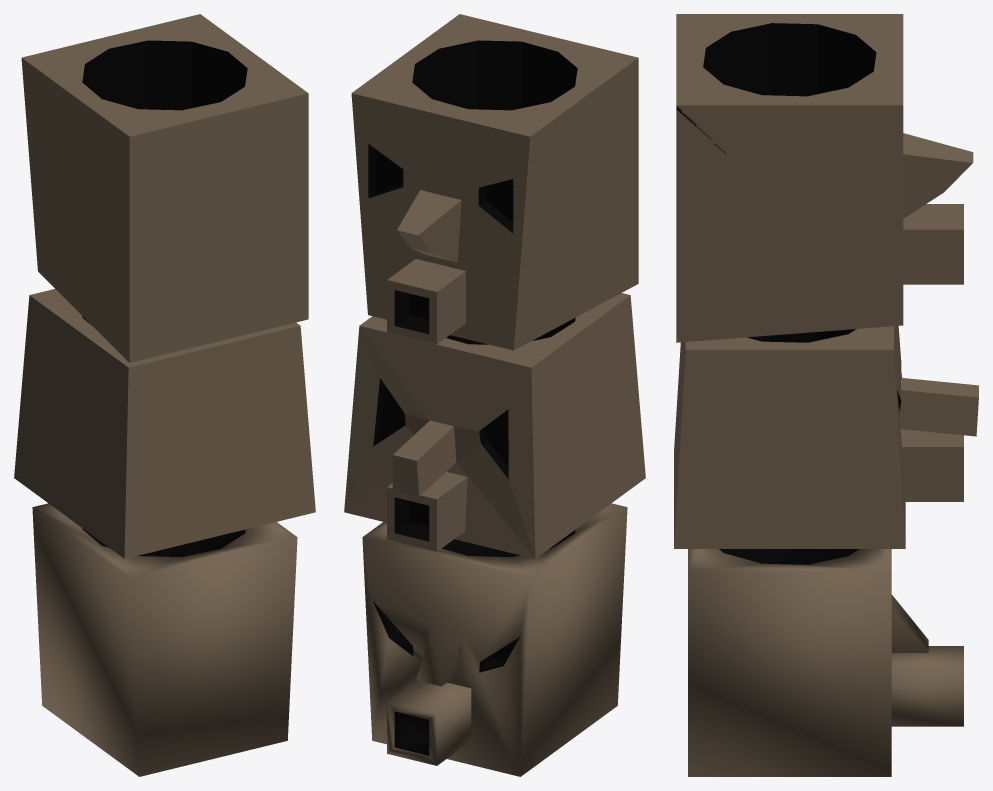
The model's file is goblin_totems_totem3.fbx.
The picture shows the model from 3 angles, left to right: view 1: azimuth 30°, elevation 25°; view 2: azimuth 150°, elevation 25°; view 3: azimuth 270°, elevation 25°; orthographic projection. The views are drawn at different scales.
Visible parts, largest first — view 1: totem1; view 2: totem1; view 3: totem1.
Part boxes in pixels (x1,y1,x2,y2): totem1: [14, 14, 315, 776]; totem1: [344, 14, 645, 776]; totem1: [674, 14, 978, 776].
Size of the model in its own units: 32.78 by 106 by 43.16.
Materials: 1 (1 with a texture image).
